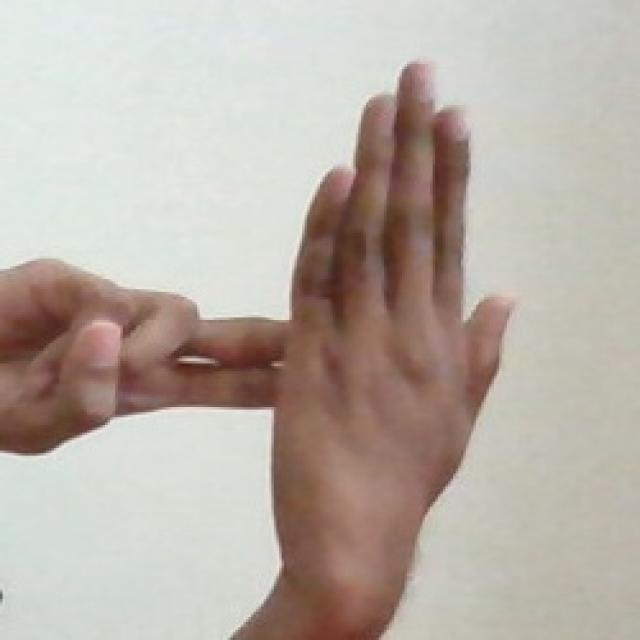Alphabet-N: (0, 41, 520, 578)
